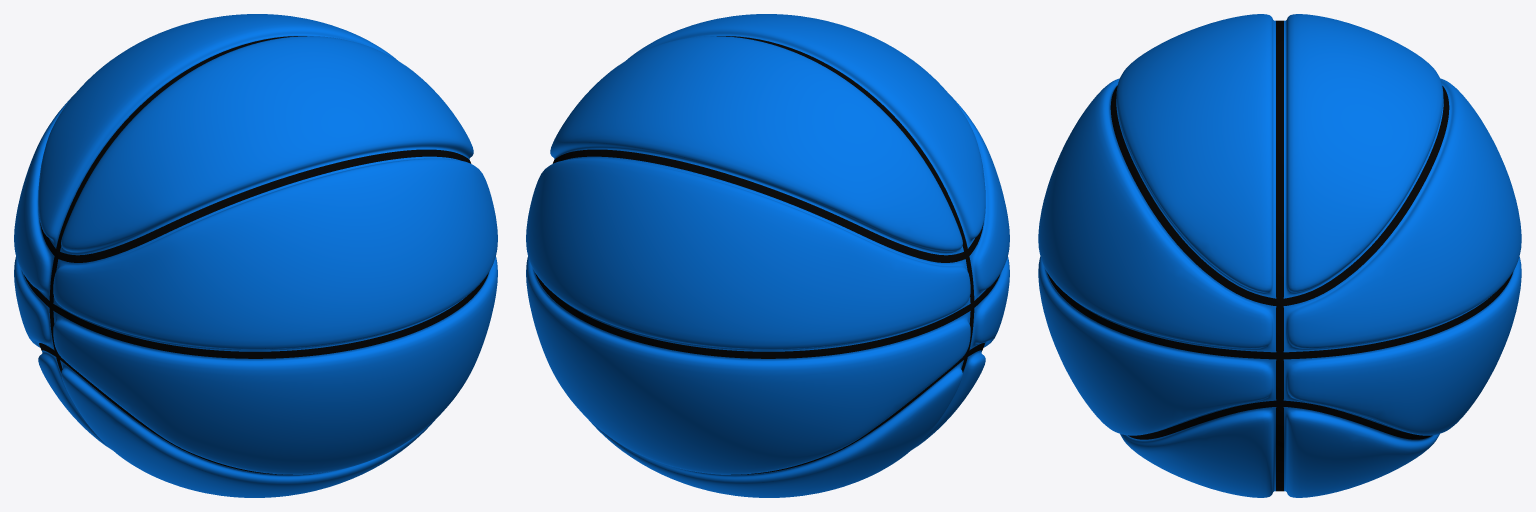
Rendered from blueball.glb.
The picture shows the model from 3 angles, left to right: view 1: azimuth 30°, elevation 25°; view 2: azimuth 150°, elevation 25°; view 3: azimuth 270°, elevation 25°; orthographic projection.
Parts seen in each view (by area): view 1: Cube; view 2: Cube; view 3: Cube.
Boxes of the visible parts, x1=… form: Cube: x1=14, y1=14, x2=497, y2=497; Cube: x1=526, y1=14, x2=1009, y2=497; Cube: x1=1038, y1=14, x2=1521, y2=497.
Bounding box in the file's own units: 1.65 × 1.65 × 1.65.
